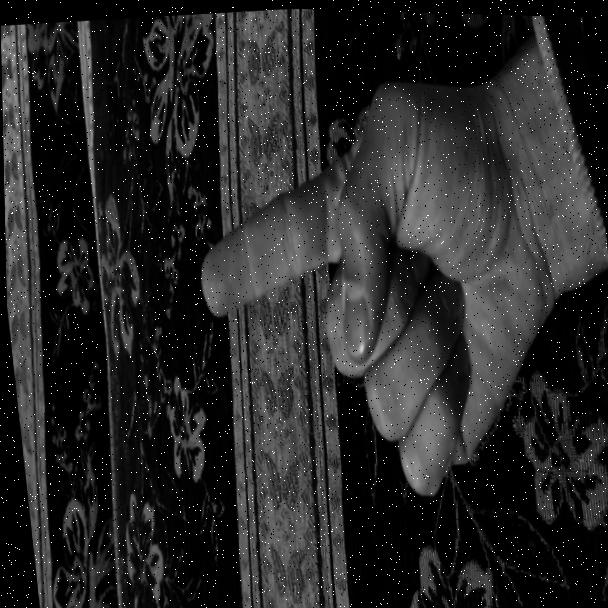five: (171, 42, 562, 523)
